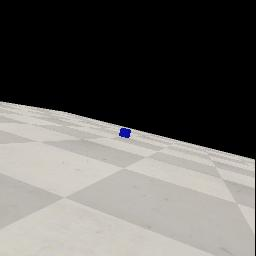box: (119, 128, 131, 138)
